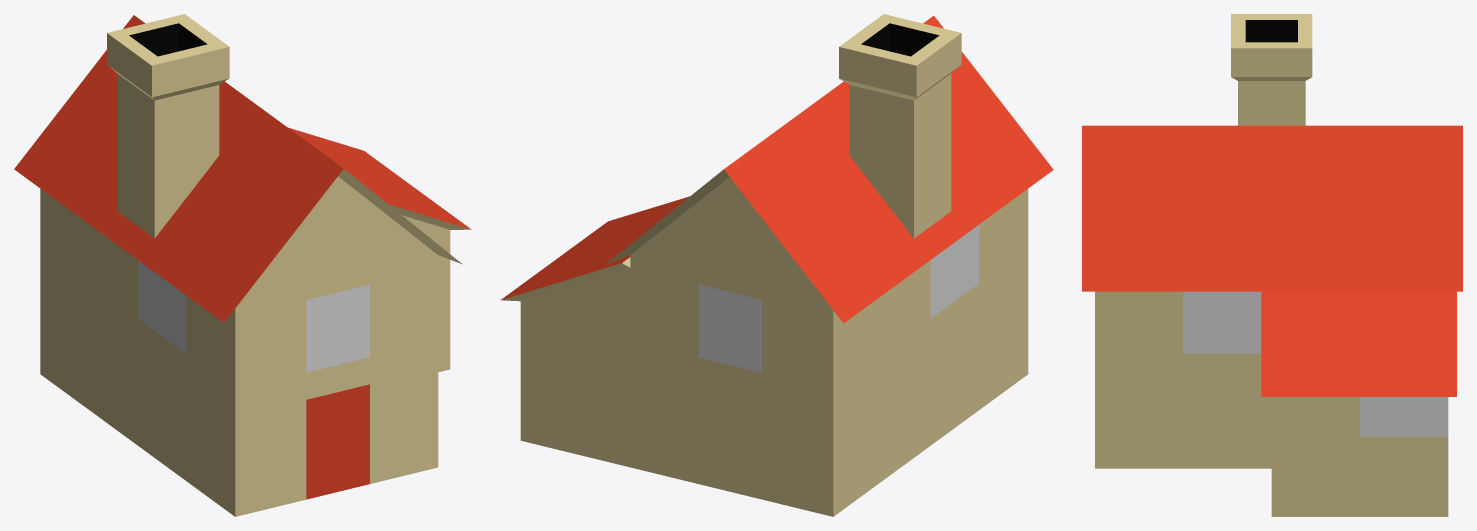
Rendered from HouseForSanta.fbx.
3 views of the same model, side by side, from view 1: azimuth 30°, elevation 25°; view 2: azimuth 150°, elevation 25°; view 3: azimuth 270°, elevation 25° (orthographic). The views are drawn at different scales.
Parts seen in each view (by area): view 1: Cube; view 2: Cube; view 3: Cube.
Part boxes in pixels (x1,y1,x2,y2): Cube: (14,14,471,516); Cube: (500,14,1053,516); Cube: (1082,14,1462,516).
Size of the model in its own units: 342 by 375 by 359.
